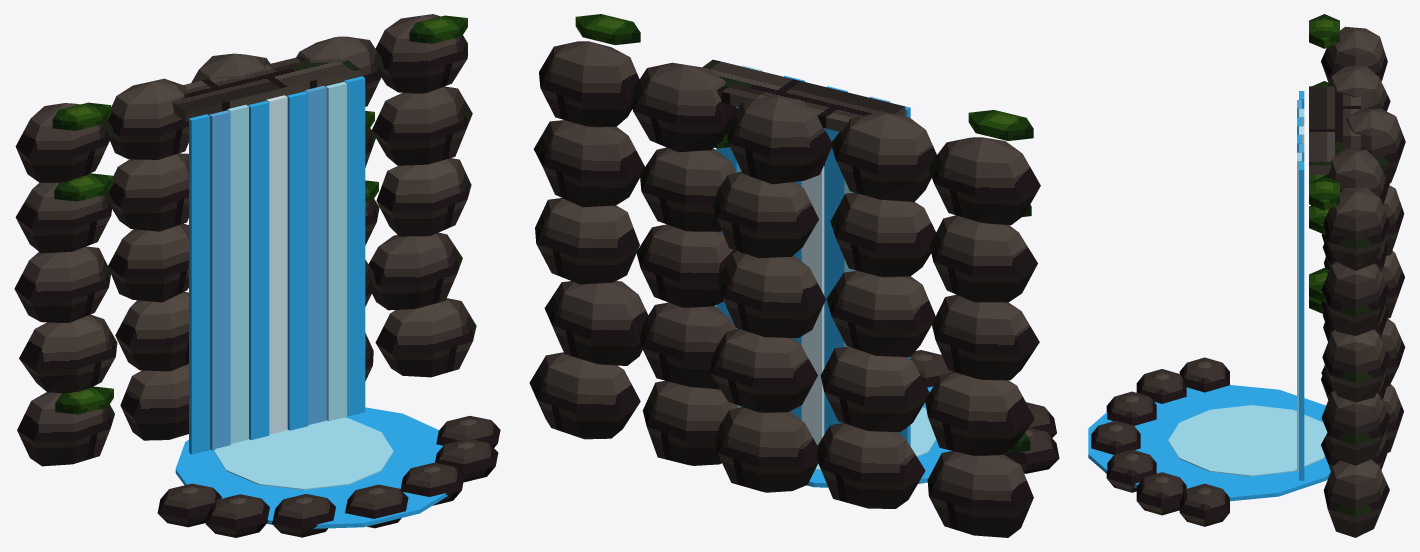
File: waterfall.glb
3 renders of one model, left to right at view 1: azimuth 30°, elevation 25°; view 2: azimuth 150°, elevation 25°; view 3: azimuth 270°, elevation 25°, orthographic. The views are drawn at different scales.
Visible parts, largest first — view 1: waterfall; view 2: waterfall; view 3: waterfall.
Part boxes in pixels (x1=…): waterfall: x1=14, y1=14, x2=500, y2=537; waterfall: x1=529, y1=14, x2=1059, y2=537; waterfall: x1=1088, y1=14, x2=1405, y2=537.
Size of the model in its own units: 4.7 by 3.73 by 3.05.
3 materials, 2 textured.
